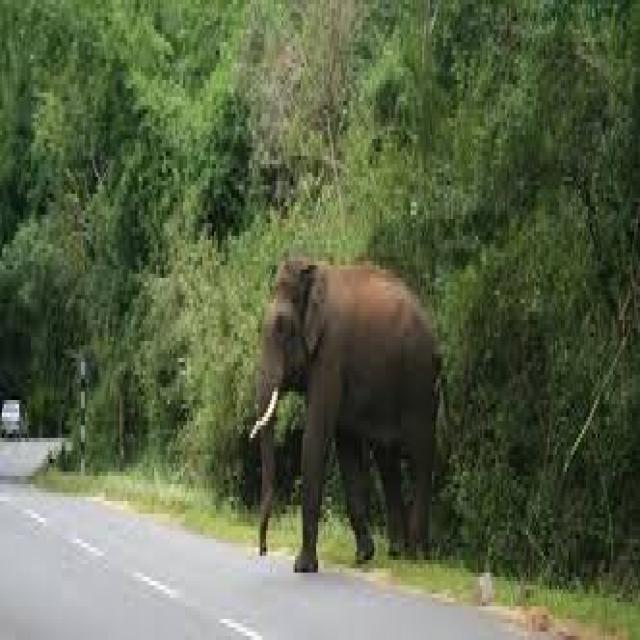Elephant: (241, 242, 463, 583)
